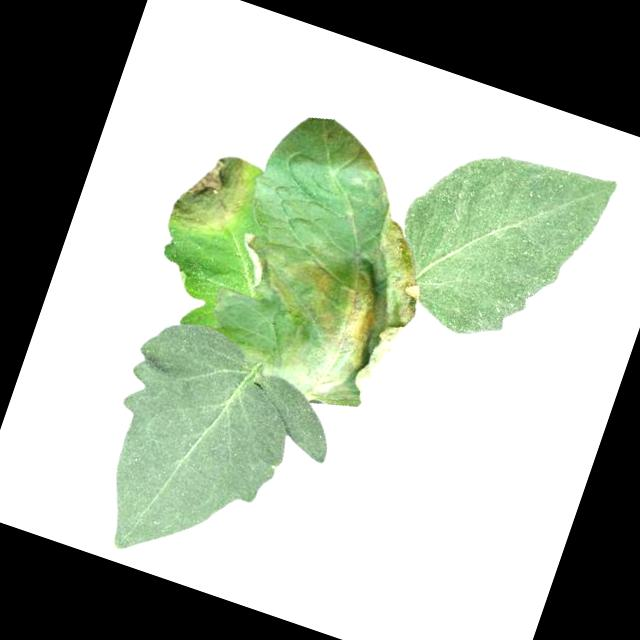Late_blight: (285, 194, 445, 424), (164, 140, 264, 247), (228, 229, 278, 295)
healthy: (72, 308, 351, 603), (373, 119, 618, 365)
